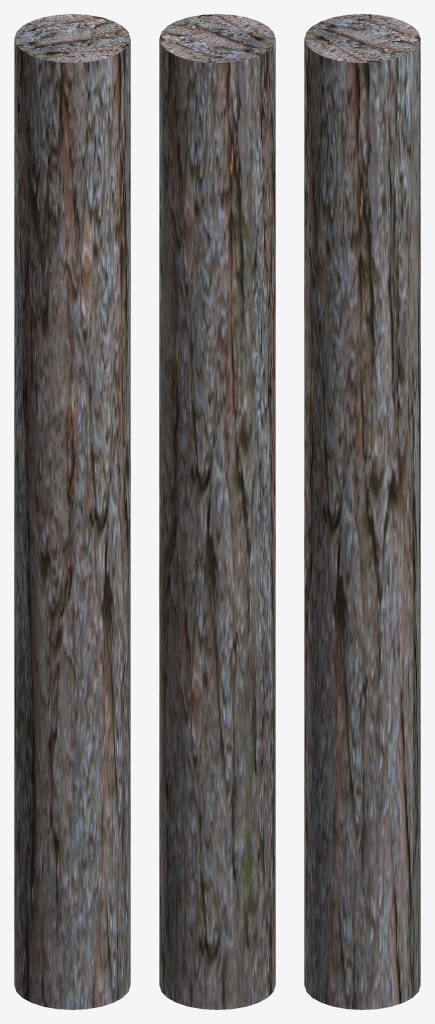
File: treetrunk.obj
3 renders of one model, left to right at view 1: azimuth 30°, elevation 25°; view 2: azimuth 150°, elevation 25°; view 3: azimuth 330°, elevation 25°, orthographic.
Parts seen in each view (by area): view 1: Cylinder; view 2: Cylinder; view 3: Cylinder.
Part boxes in pixels (x1,y1,x2,y2): Cylinder: [14, 14, 130, 1009]; Cylinder: [159, 14, 275, 1009]; Cylinder: [304, 14, 420, 1009].
Size of the model in its own units: 1 by 9 by 1.
1 material, 1 textured.
